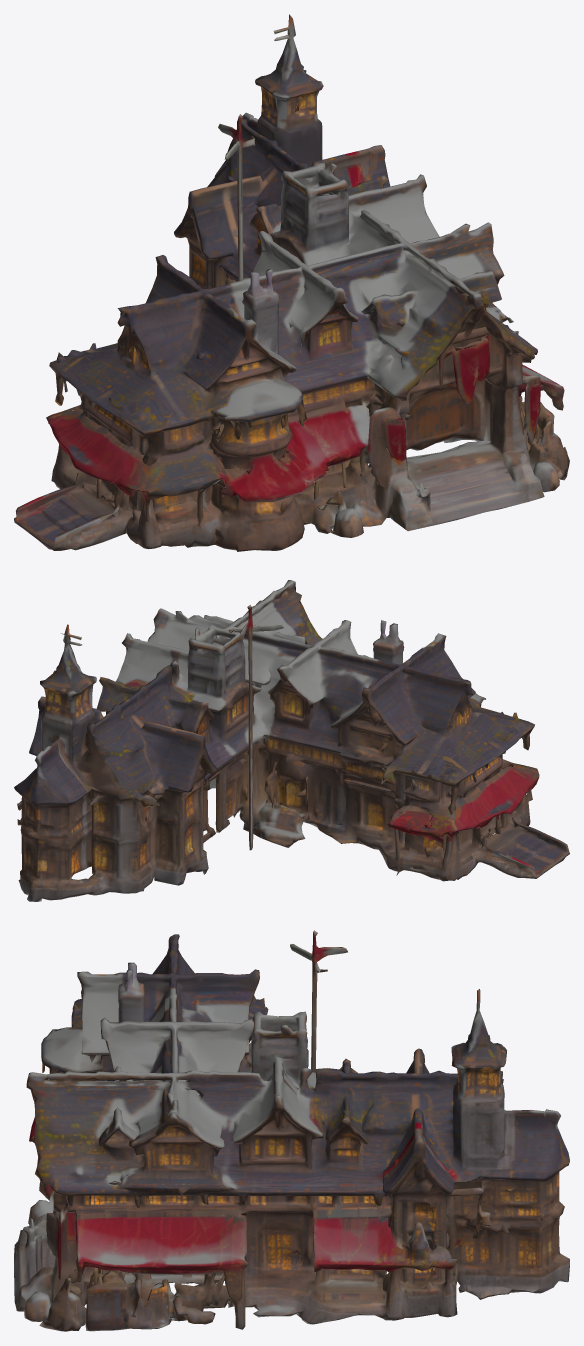
The model's file is loja_mansao_otimizada_4K.glb.
3 renders of one model, top to bottom at view 1: azimuth 30°, elevation 25°; view 2: azimuth 150°, elevation 25°; view 3: azimuth 270°, elevation 25°, orthographic. The views are drawn at different scales.
Parts seen in each view (by area): view 1: tripo_node_5e82763c-a9cd-4d23-84ad-3fbb275d5573; view 2: tripo_node_5e82763c-a9cd-4d23-84ad-3fbb275d5573; view 3: tripo_node_5e82763c-a9cd-4d23-84ad-3fbb275d5573.
Boxes of the visible parts, box(x1,y1,x2,y2) form: tripo_node_5e82763c-a9cd-4d23-84ad-3fbb275d5573: box(14, 14, 569, 551); tripo_node_5e82763c-a9cd-4d23-84ad-3fbb275d5573: box(14, 580, 569, 901); tripo_node_5e82763c-a9cd-4d23-84ad-3fbb275d5573: box(14, 930, 569, 1331).
Bounding box in the file's own units: 0.999 × 0.6176 × 0.9889.
1 material, 1 textured.
